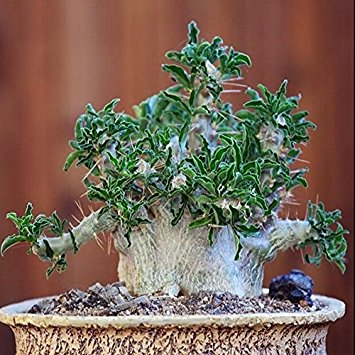Pachypodium saundersii: (13, 16, 349, 305)
